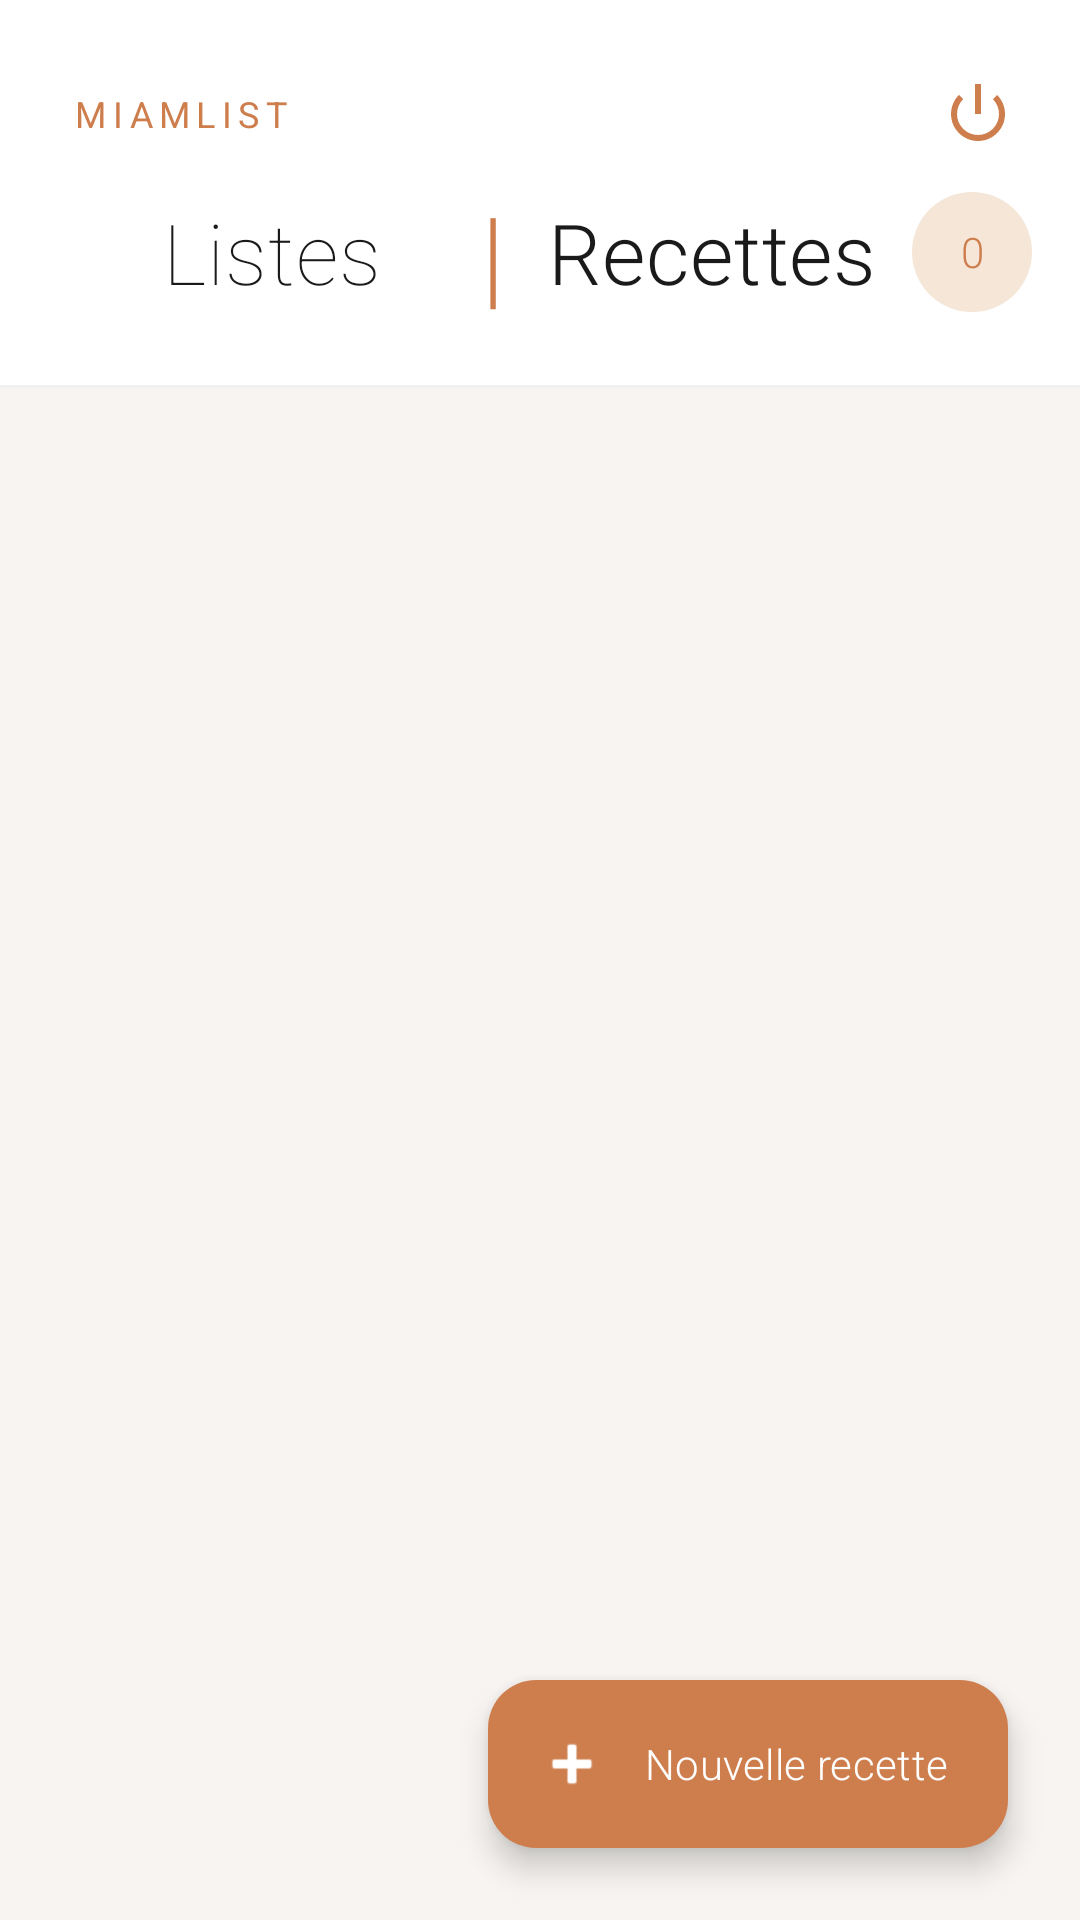

Point at icon controls on the screen. Image size 1080 × 1920, points as (x,y).
Déconnexion: (978,112)
